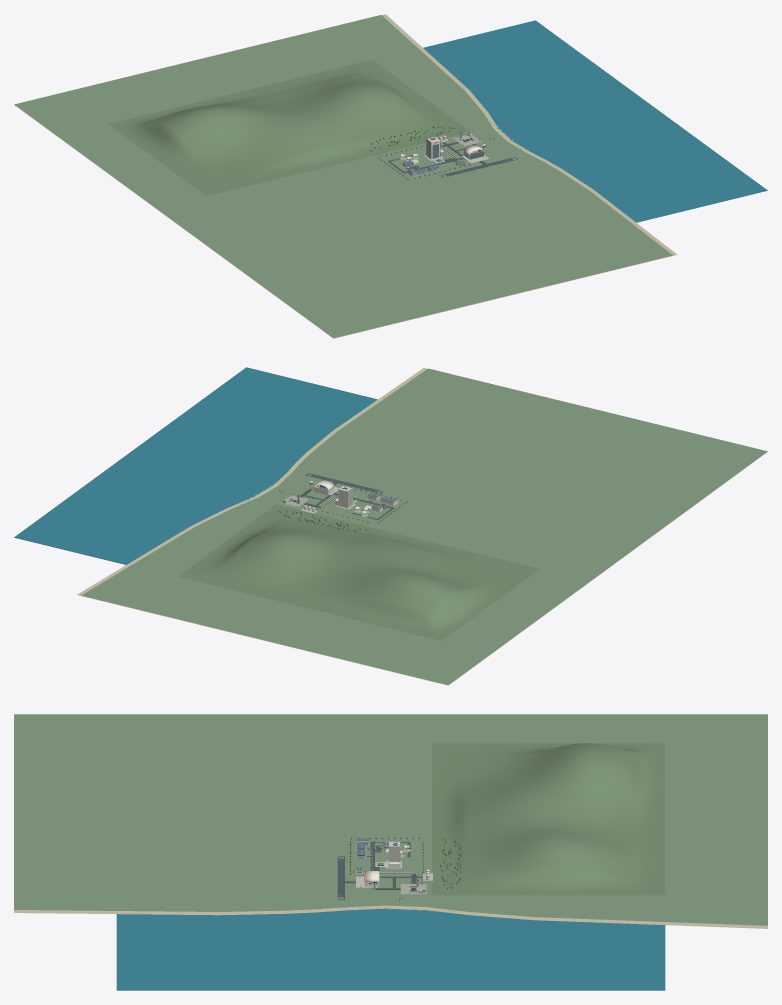
Rendered from space-center.glb.
3 views of the same model, one above another, from view 1: azimuth 30°, elevation 25°; view 2: azimuth 150°, elevation 25°; view 3: azimuth 270°, elevation 25° (orthographic). The views are drawn at different scales.
Parts seen in each view (by area): view 1: Campus Coastal grass, Campus Blue ocean, Campus Inland vegetation, Campus Shoreline; view 2: Campus Coastal grass, Campus Blue ocean, Campus Inland vegetation, Campus Shoreline; view 3: Campus Coastal grass, Campus Blue ocean, Campus Inland vegetation, Campus Shoreline, Campus Asphalt.
Boxes of the visible parts, x1,y1,x2,y2 form: Campus Coastal grass: [14, 15, 672, 338]; Campus Blue ocean: [423, 20, 767, 222]; Campus Inland vegetation: [108, 59, 470, 196]; Campus Shoreline: [14, 14, 677, 338]; Campus Coastal grass: [81, 368, 767, 685]; Campus Blue ocean: [14, 367, 377, 564]; Campus Inland vegetation: [178, 504, 539, 640]; Campus Shoreline: [77, 368, 767, 685]; Campus Coastal grass: [14, 714, 767, 925]; Campus Blue ocean: [116, 908, 665, 990]; Campus Inland vegetation: [432, 743, 665, 895]; Campus Shoreline: [14, 872, 767, 928]; Campus Asphalt: [363, 841, 422, 888].
Bounding box in the file's own units: 1900 × 81.51 × 2200.
